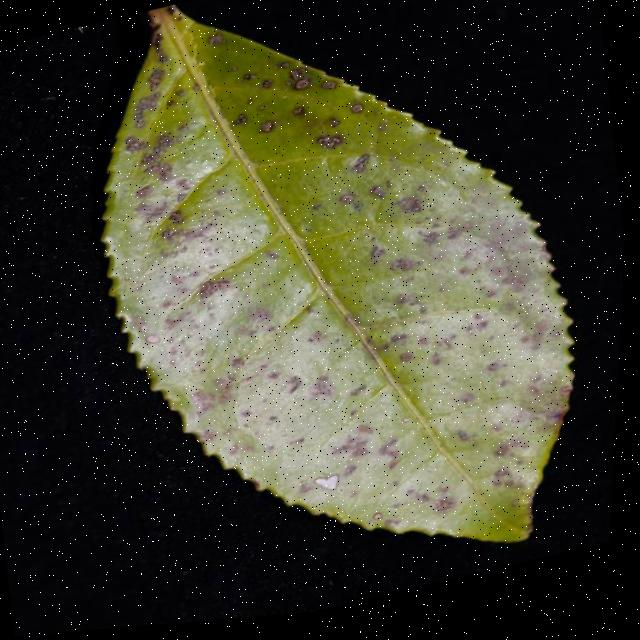Tea red rust: (71, 0, 606, 604)
